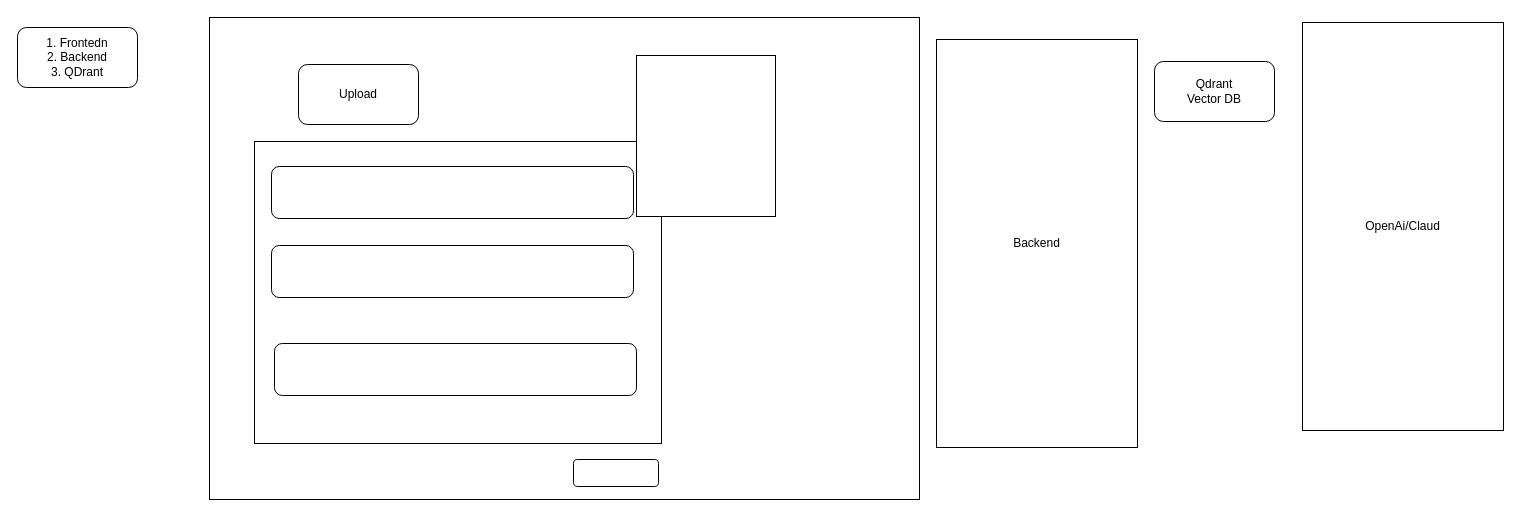
Image size: 1521x517. Some labels were removed from this diagram. Each missing label, with the centre of its shape:
"Chat" goes at pixel 706 135.
"Download PDF" goes at pixel 615 472.
